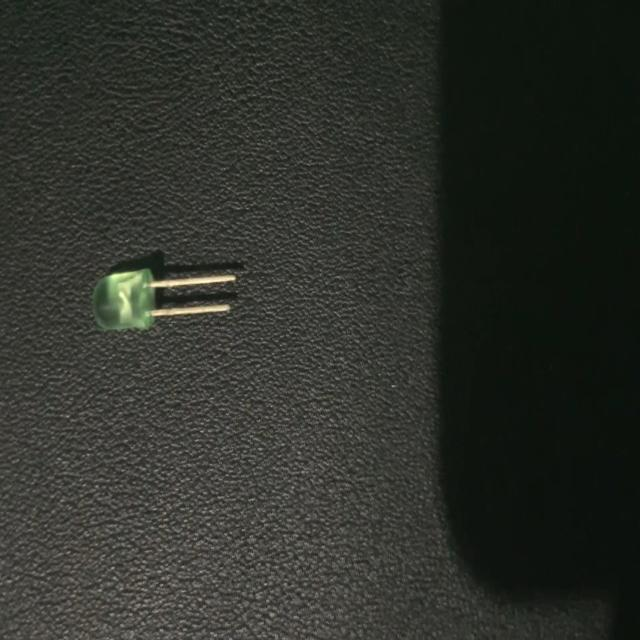LED: (89, 264, 240, 334)
